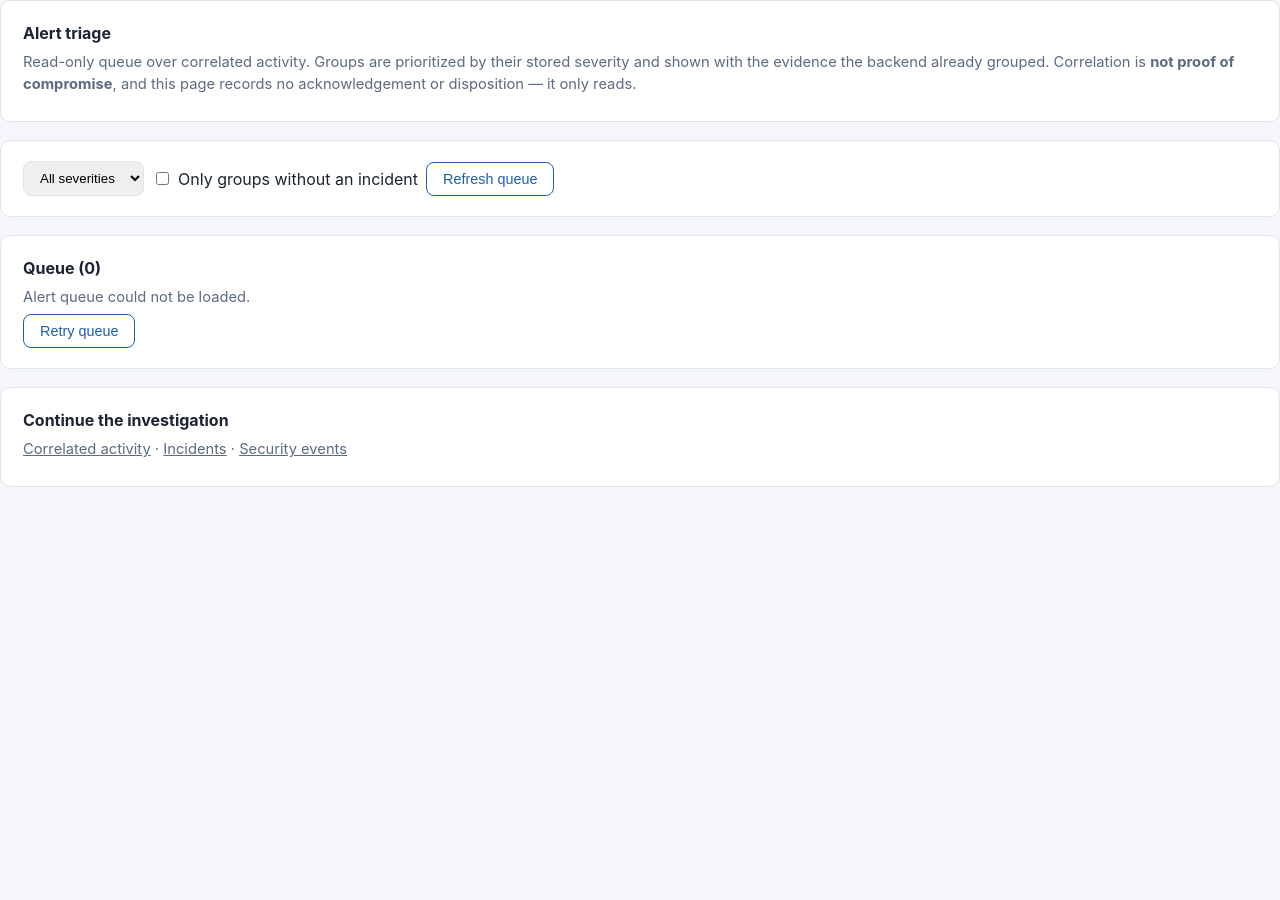
Test: Alert triage queue (Phase 3, Step 37) › isolates a queue failure and recovers through its retry control
Expected: the text "Alert queue could not be loaded." is shown, 23,288 -> 250,306
What coordinates should you click on to do the following:
click the button "Retry queue"
I would click on:
 (79, 331)
Its box is 23,314 -> 135,348.
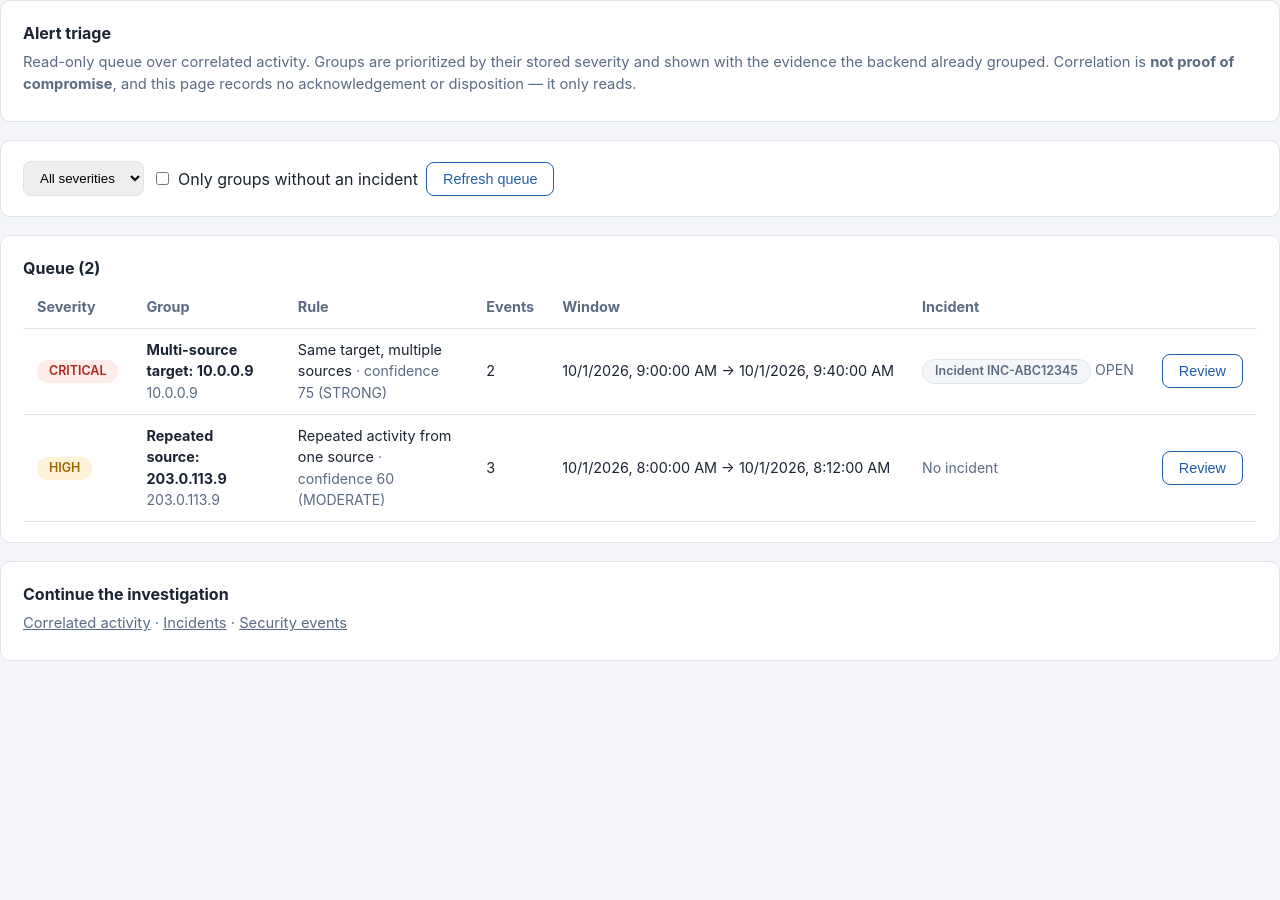
Expected: the number of rows is 3, 23,286 -> 1257,328; 23,328 -> 1257,414; 23,414 -> 1257,522
